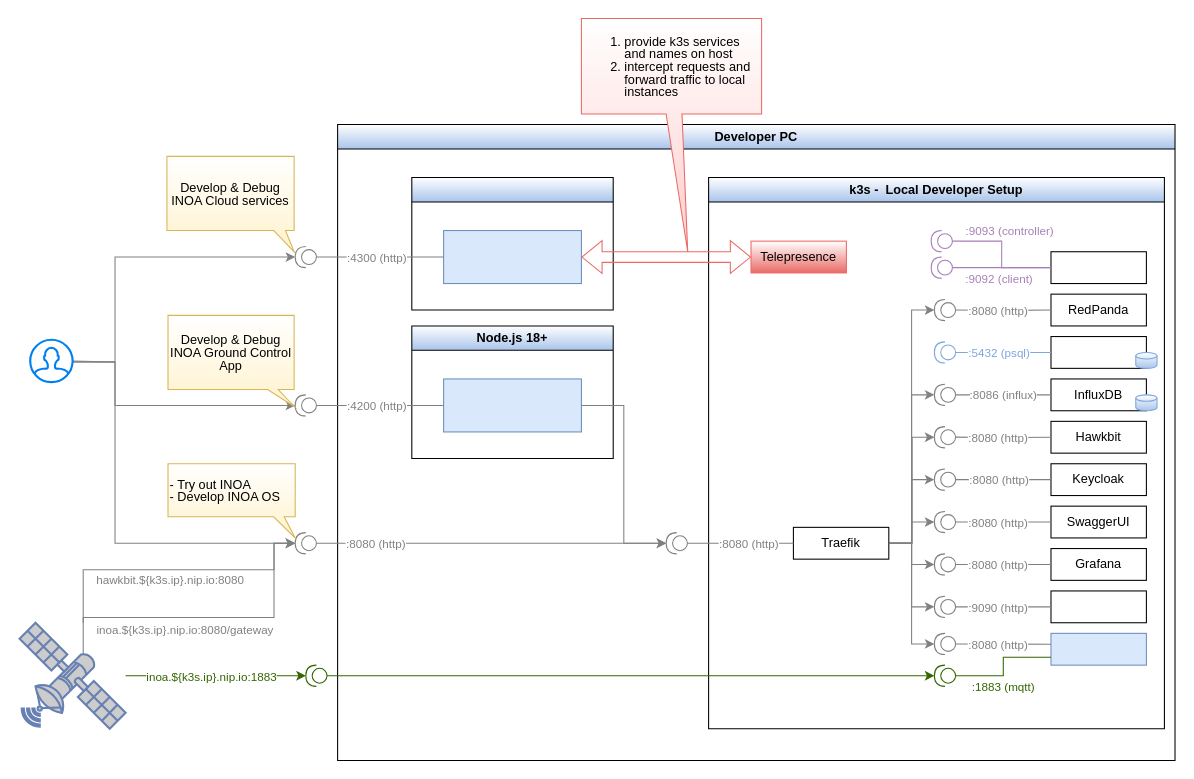
The diagram is 1194 pixels wide and 779 high, and some of its shapes have lost their labels. The box of each missing label's shape, as (x1, y1, x2, y2) in pixels:
INOA: (1050, 632, 1146, 665)
INOA Cloud + GroundControl: (443, 229, 581, 284)
INOA GroundControl: (443, 378, 581, 432)
Java VM 17+: (411, 176, 613, 310)
k8s Dashboard: (1050, 590, 1146, 623)
Kafka: (1050, 251, 1146, 284)
PSQL: (1050, 335, 1146, 368)
